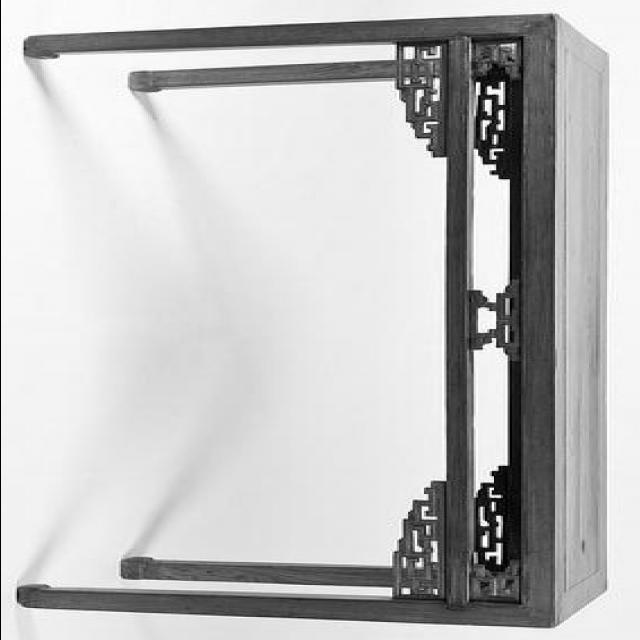table: (18, 13, 612, 626)
